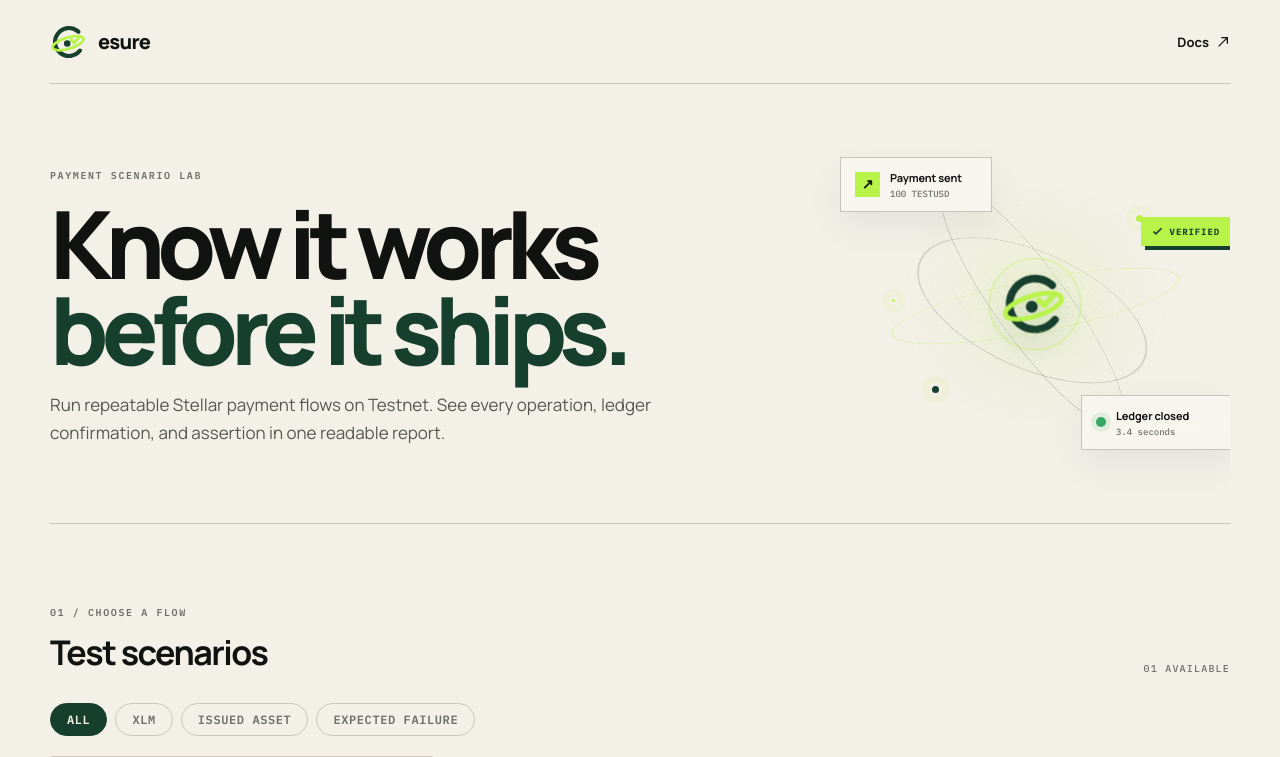
Dashboard component scenario filtering › displays empty results message when no scenarios match filter
Expected: the text "01 AVAILABLE" is shown, [1144, 662, 1230, 675]
Click the tab "Expected Failure": (396, 720) [316, 703, 475, 736]
(page scrolled)
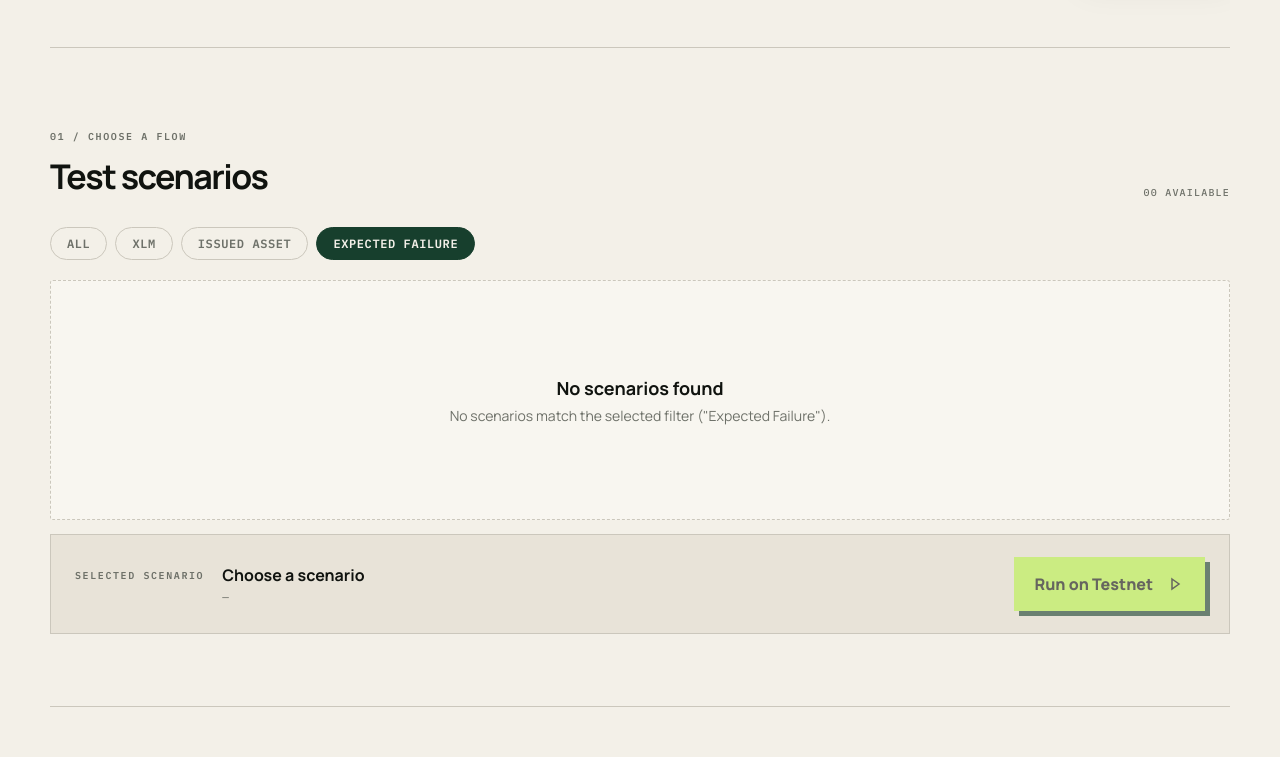
Expected: the text "00 AVAILABLE" is shown, [1144, 186, 1230, 199]
Expected: the text "No scenarios found" is shown, [556, 376, 724, 400]
Expected: the message is shown, [50, 280, 1230, 520]
